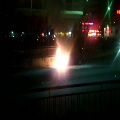fire: (49, 41, 69, 72)
